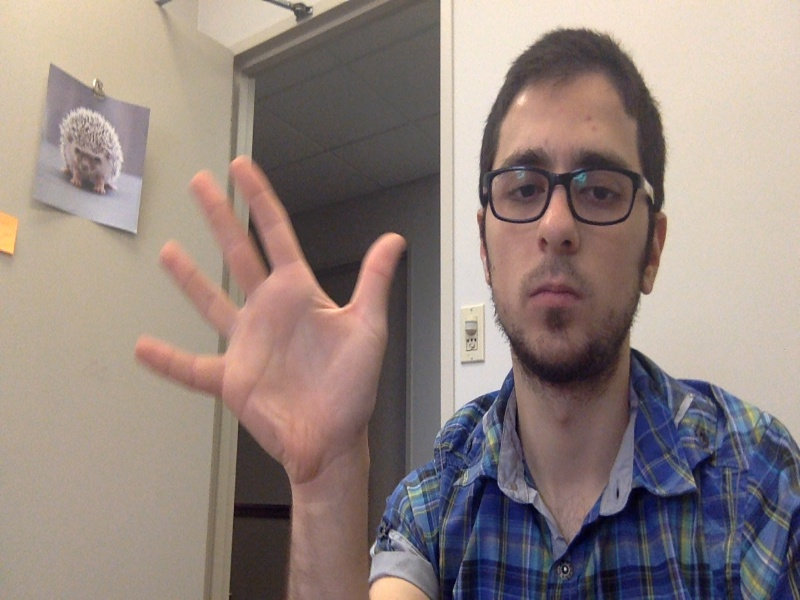5-hand: (132, 157, 403, 481)
